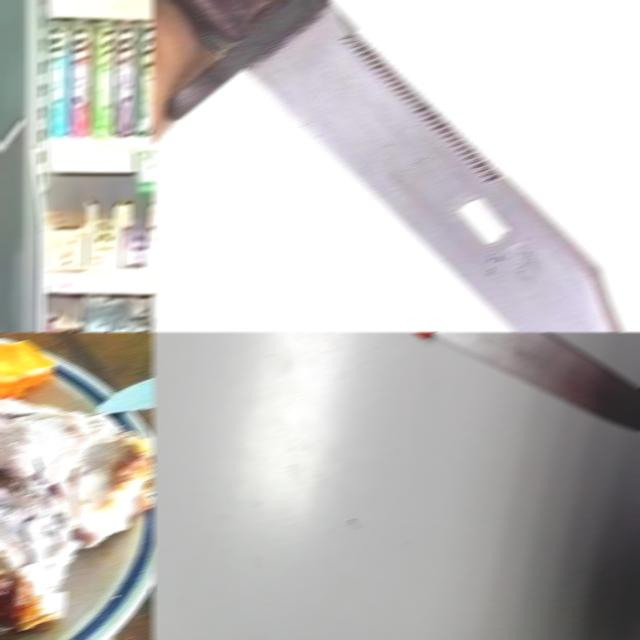Knife: (164, 0, 626, 332), (414, 332, 640, 431)
